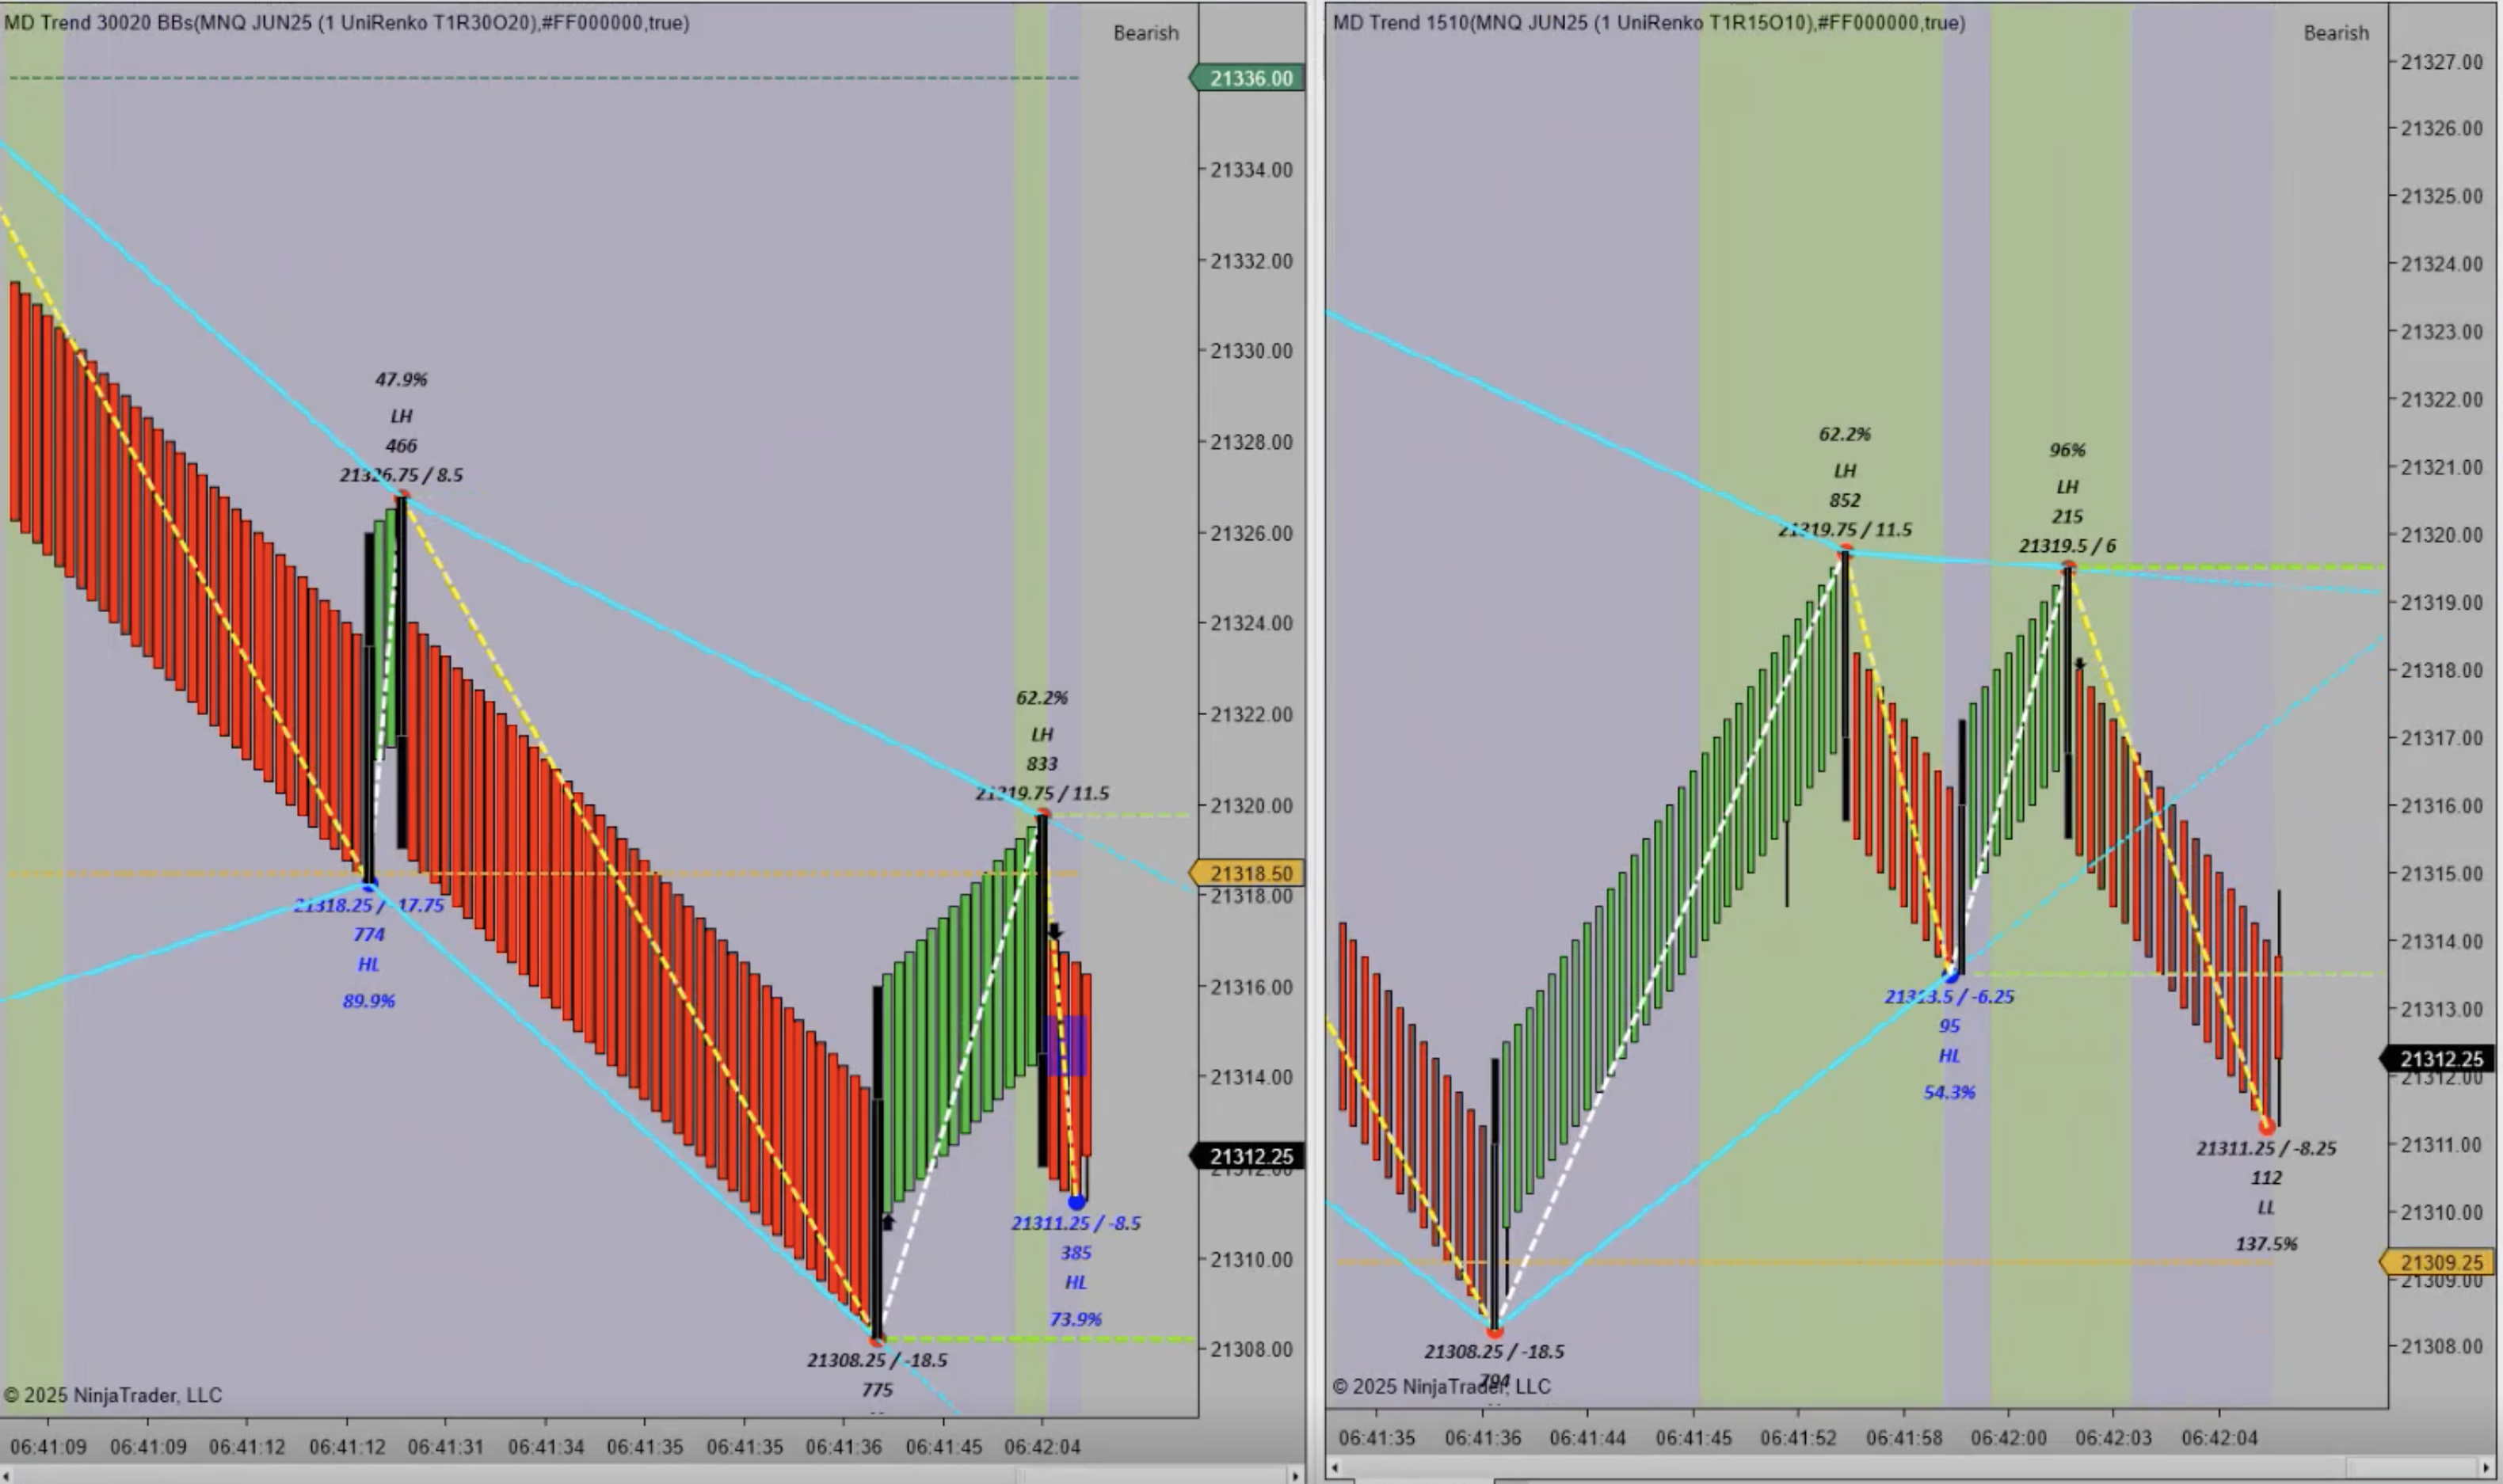candle: (867, 981, 894, 1352), (1030, 813, 1053, 1177), (394, 489, 415, 859), (364, 528, 383, 882), (2061, 560, 2084, 850), (1489, 1056, 1509, 1332), (1842, 548, 1858, 834), (1959, 717, 1973, 977)
